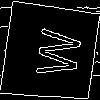W: (25, 26, 82, 79)
